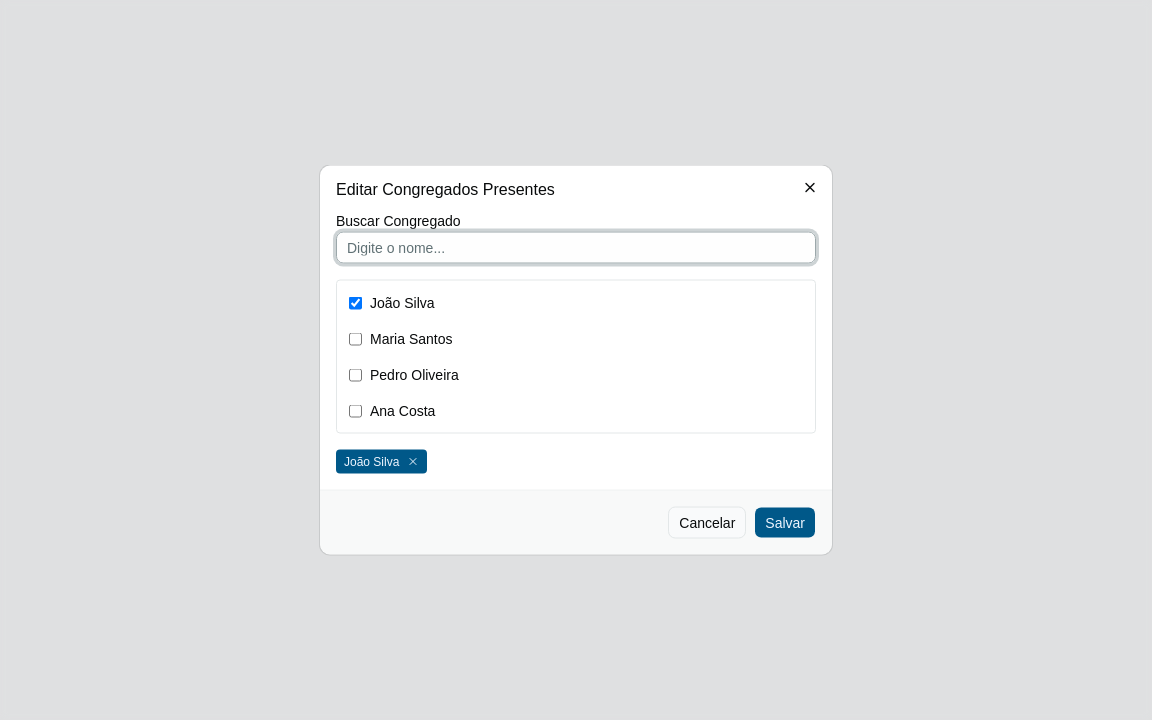
Test: EditAttendersDialog › maintains selection across search
The image size is (1152, 720).
Check: the 1st checkbox is checked, box left=349, top=296, right=362, bottom=309
Type "Maria" into the field with placeholder "Digite o nome..." at (576, 248), box left=336, top=232, right=816, bottom=264
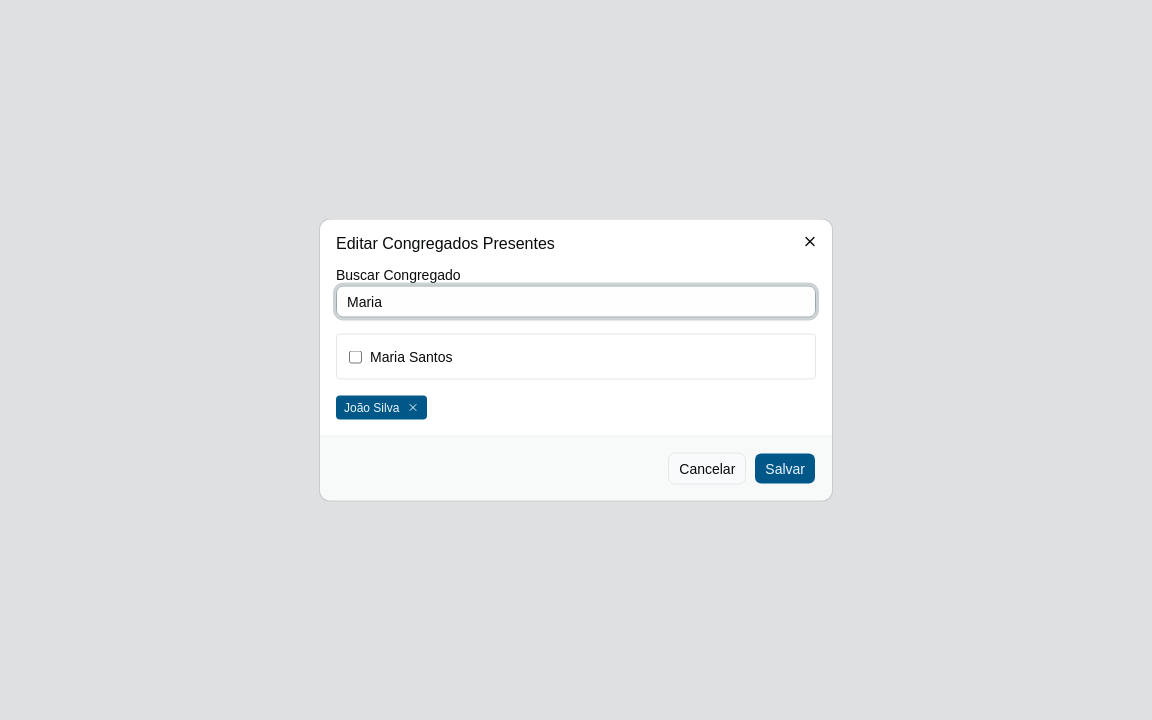
Clear the field with placeholder "Digite o nome..." at (576, 302), box left=336, top=286, right=816, bottom=318
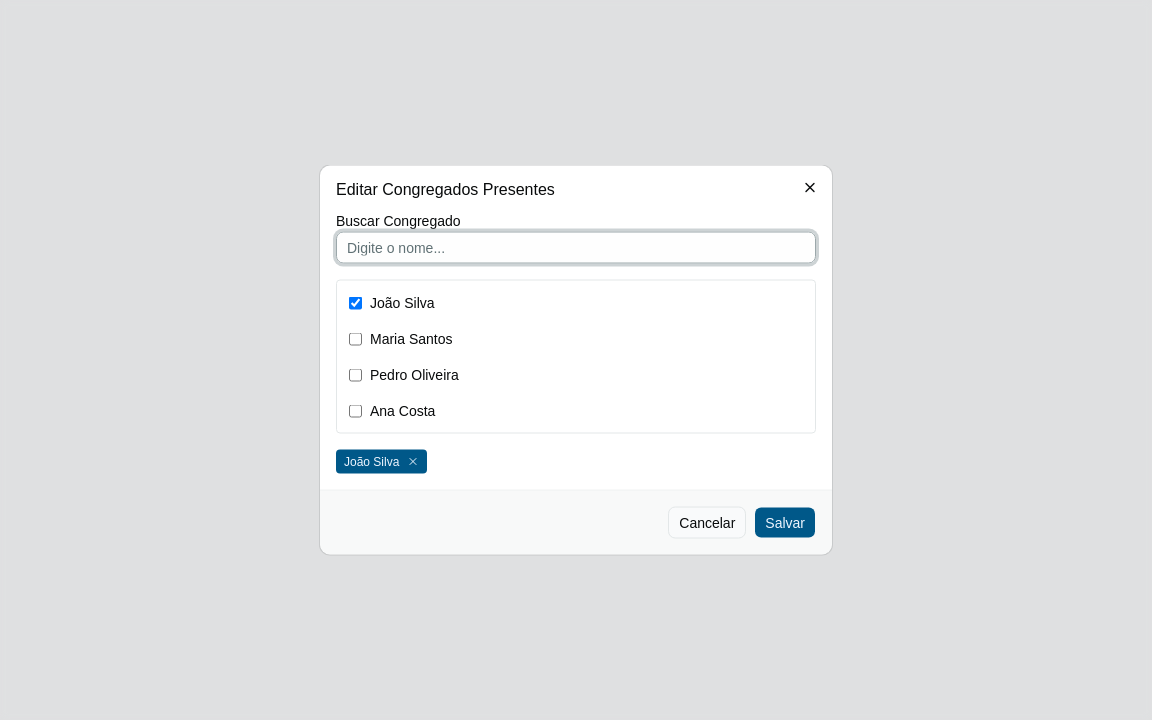
Check: the 1st checkbox is checked, box left=349, top=296, right=362, bottom=309
